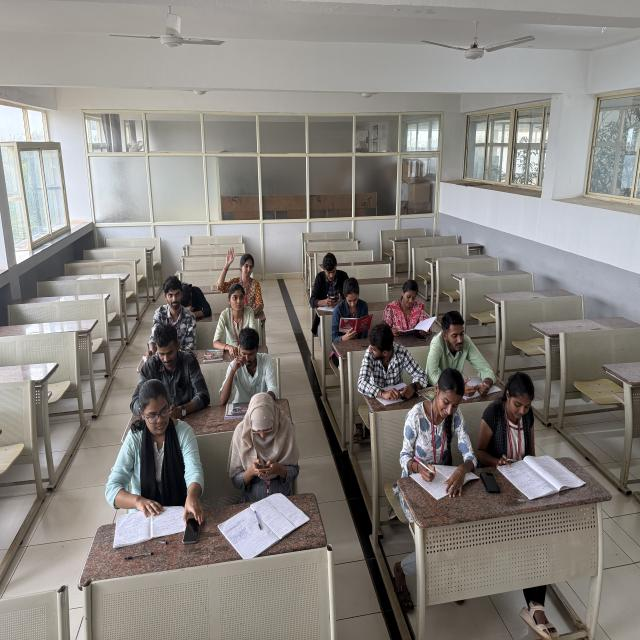Hand Rising: (218, 246, 262, 303)
Reading: (98, 372, 206, 518), (383, 278, 438, 332), (332, 276, 372, 339)
Sleeping: (176, 277, 216, 325)
Using Phone: (123, 325, 215, 424), (226, 389, 302, 496), (311, 248, 350, 313)
Writing: (405, 366, 474, 488), (480, 366, 548, 472), (143, 276, 198, 360)
